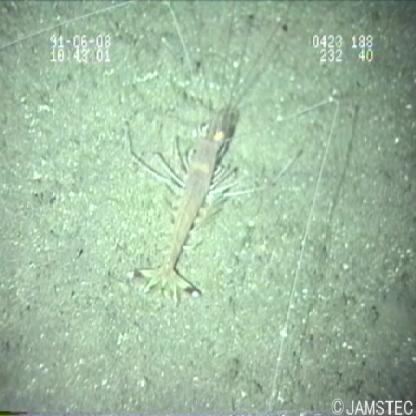Bio: (48, 1, 343, 347)
